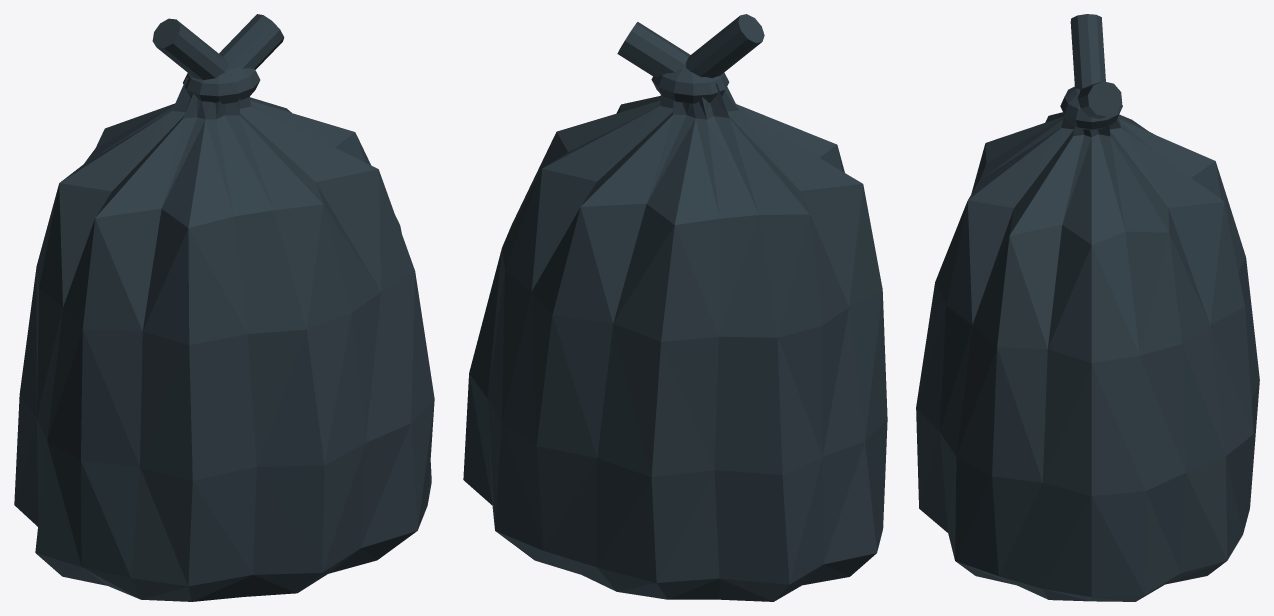
File: trash_bag.glb
3 renders of one model, left to right at view 1: azimuth 30°, elevation 25°; view 2: azimuth 150°, elevation 25°; view 3: azimuth 270°, elevation 25°, orthographic. The views are drawn at different scales.
Visible parts, largest first — view 1: trash_bag; view 2: trash_bag; view 3: trash_bag.
Boxes of the visible parts, x1,y1,x2,y2 form: trash_bag: [14, 14, 434, 601]; trash_bag: [463, 14, 887, 601]; trash_bag: [916, 14, 1259, 601].
Size of the model in its own units: 0.47 by 0.6128 by 0.3838.
